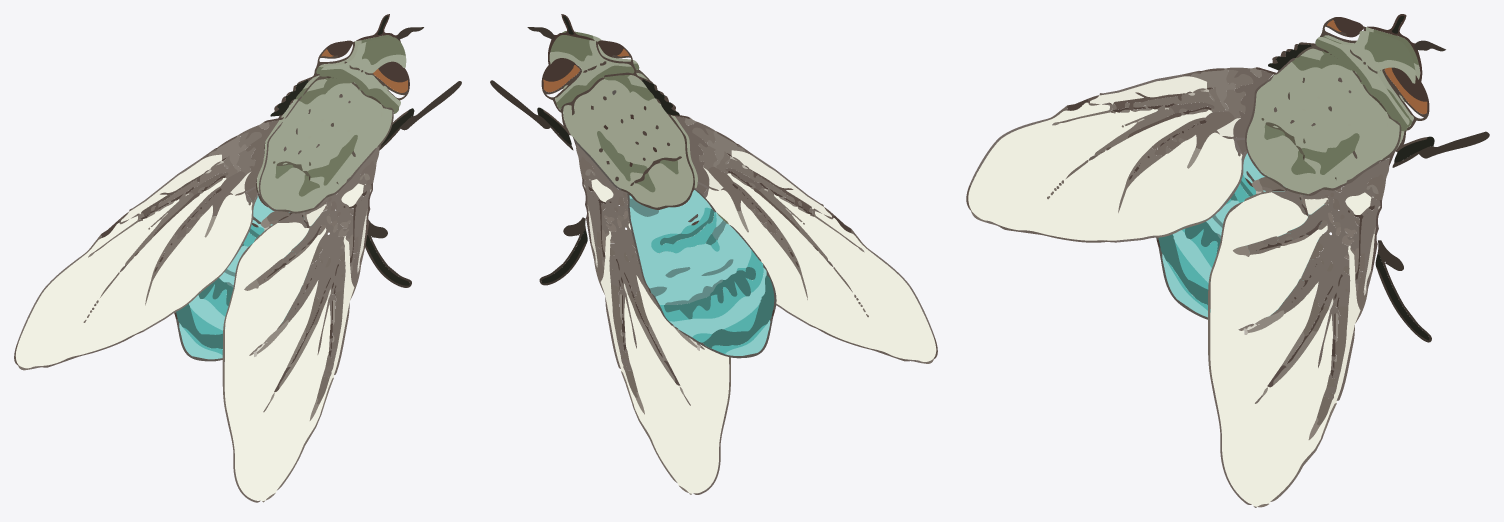
Rendered from Fly.glb.
3 renders of one model, left to right at view 1: azimuth 30°, elevation 25°; view 2: azimuth 150°, elevation 25°; view 3: azimuth 330°, elevation 25°, orthographic. The views are drawn at different scales.
Visible parts, largest first — view 1: n.094, n.243, n.316, n.095, n.317, n.318, n.247, n.248, n.222, n.096, n.319, n.064 (+10 smaller); view 2: n.243, n.094, n.003, n.074, n.095, n.051, n.064, n.004, n.247, n.248, n.222, n.081 (+14 smaller); view 3: n.094, n.243, n.316, n.095, n.317, n.318, n.247, n.248, n.222, n.096, n.319, n.005 (+12 smaller).
Boxes of the visible parts, x1=… form: n.094: x1=224, y1=222, x2=330, y2=501; n.243: x1=15, y1=177, x2=252, y2=368; n.316: x1=260, y1=83, x2=392, y2=211; n.095: x1=277, y1=146, x2=379, y2=329; n.317: x1=321, y1=42, x2=406, y2=106; n.318: x1=299, y1=69, x2=398, y2=113; n.247: x1=121, y1=154, x2=221, y2=222; n.248: x1=174, y1=171, x2=245, y2=239; n.222: x1=235, y1=120, x2=278, y2=195; n.096: x1=326, y1=236, x2=354, y2=388; n.319: x1=362, y1=37, x2=405, y2=64; n.064: x1=176, y1=304, x2=222, y2=348; n.243: x1=706, y1=173, x2=936, y2=361; n.094: x1=624, y1=223, x2=729, y2=493; n.003: x1=563, y1=79, x2=693, y2=207; n.074: x1=629, y1=190, x2=751, y2=304; n.095: x1=576, y1=143, x2=659, y2=322; n.051: x1=669, y1=268, x2=766, y2=337; n.064: x1=703, y1=275, x2=774, y2=348; n.004: x1=549, y1=40, x2=631, y2=101; n.247: x1=731, y1=150, x2=831, y2=217; n.248: x1=708, y1=167, x2=779, y2=234; n.222: x1=675, y1=116, x2=718, y2=190; n.081: x1=651, y1=212, x2=716, y2=253; n.094: x1=1210, y1=192, x2=1332, y2=506; n.243: x1=968, y1=102, x2=1242, y2=240; n.316: x1=1246, y1=62, x2=1399, y2=193; n.095: x1=1270, y1=158, x2=1389, y2=339; n.317: x1=1317, y1=31, x2=1415, y2=124; n.318: x1=1292, y1=39, x2=1407, y2=131; n.247: x1=1090, y1=76, x2=1206, y2=104; n.248: x1=1151, y1=111, x2=1234, y2=156; n.222: x1=1222, y1=67, x2=1273, y2=138; n.096: x1=1328, y1=245, x2=1360, y2=412; n.319: x1=1364, y1=31, x2=1415, y2=69; n.005: x1=1367, y1=14, x2=1429, y2=112.
Bounding box in the file's own units: 1.26 × 1.22 × 0.0353.
